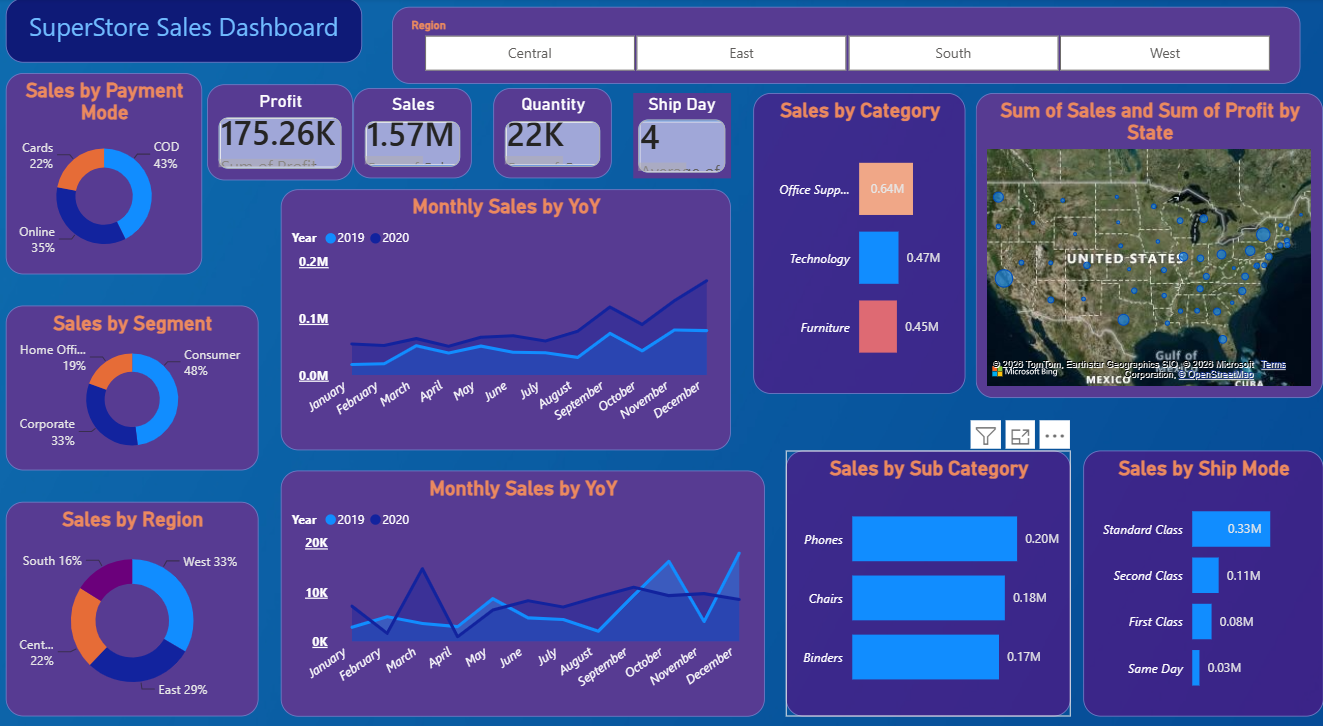

Layout of this report page (visuals, bound fields, positions):
{"tool":"powerbi","page":{"name":"Page 1","canvas":[1280,720],"ordinal":0},"visuals":[{"type":"clusteredBarChart","title":"Sales by Category","fields":{"Category":["SuperStore_Sales_Dataset.Category"],"Y":["Sum(SuperStore_Sales_Dataset.Sales)"]},"box":[729.9,91.7,205.1,290.8],"z":0},{"type":"clusteredBarChart","title":"Sales by Sub Category","fields":{"Category":["SuperStore_Sales_Dataset.Sub-Category"],"Y":["Sum(SuperStore_Sales_Dataset.Sales)"]},"box":[761.3,436.7,275.1,257],"z":1000},{"type":"clusteredBarChart","title":"Sales by Ship Mode","fields":{"Category":["SuperStore_Sales_Dataset.Ship Mode"],"Y":["Sum(SuperStore_Sales_Dataset.Sales)"]},"box":[1048.4,436.7,231.6,257],"z":2000},{"type":"areaChart","title":"Monthly Sales by YoY","fields":{"Category":["SuperStore_Sales_Dataset.Order Date.Variation.Date Hierarchy.Month","SuperStore_Sales_Dataset.Order Date.Variation.Date Hierarchy.Day"],"Y":["Sum(SuperStore_Sales_Dataset.Sales)"],"Series":["SuperStore_Sales_Dataset.Order Date.Variation.Date Hierarchy.Year"]},"box":[273.9,184.6,434.3,252.1],"z":3000},{"type":"areaChart","title":"Monthly Sales by YoY","fields":{"Category":["SuperStore_Sales_Dataset.Order Date.Variation.Date Hierarchy.Month","SuperStore_Sales_Dataset.Order Date.Variation.Date Hierarchy.Day"],"Series":["SuperStore_Sales_Dataset.Order Date.Variation.Date Hierarchy.Year"],"Y":["Sum(SuperStore_Sales_Dataset.Profit)"]},"box":[273.9,456,466.9,237.7],"z":4000},{"type":"map","fields":{"Category":["SuperStore_Sales_Dataset.State"],"Size":["Sum(SuperStore_Sales_Dataset.Sales)"]},"box":[944.6,91.7,335.4,294.4],"z":5000},{"type":"donutChart","title":"Sales by Segment","fields":{"Category":["SuperStore_Sales_Dataset.Segment"],"Y":["Sum(SuperStore_Sales_Dataset.Sales)"]},"box":[8.4,296.8,243.7,159.3],"z":6000},{"type":"donutChart","title":"Sales by Payment Mode","fields":{"Category":["SuperStore_Sales_Dataset.Payment Mode"],"Y":["Sum(SuperStore_Sales_Dataset.Sales)"]},"box":[8.4,72.4,189.4,194.2],"z":7000},{"type":"slicer","fields":{"Values":["SuperStore_Sales_Dataset.Region"]},"box":[381.2,8.4,877.1,74.8],"z":8000},{"type":"textbox","box":[8.4,0,343.8,62.7],"z":9000},{"type":"cardVisual","title":"Sales","fields":{"Data":["Sum(SuperStore_Sales_Dataset.Sales)"]},"box":[343.8,86.9,114.6,86.9],"z":10000},{"type":"cardVisual","title":"Quantity","fields":{"Data":["Sum(SuperStore_Sales_Dataset.Quantity)"]},"box":[479,86.9,114.6,86.9],"z":11000},{"type":"cardVisual","title":"Profit","fields":{"Data":["Sum(SuperStore_Sales_Dataset.Profit)"]},"box":[202.7,83.2,141.2,92.9],"z":12000},{"type":"cardVisual","title":"Ship Day","fields":{"Data":["Avg(SuperStore_Sales_Dataset.AvgDelivery)"]},"box":[614.1,91.7,94.1,82],"z":13000},{"type":"donutChart","title":"Sales by Region","fields":{"Y":["Sum(SuperStore_Sales_Dataset.Sales)"],"Category":["SuperStore_Sales_Dataset.Region"]},"box":[8.4,486.2,243.7,207.5],"z":13001}]}

Visuals, with their boxes in screenshot pixels (x1, y1, x2, y2), scaled from the page's 1280x720 canvas onto the 1323x726 screenshot:
"Sales by Category" clusteredBarChart: Rect(754, 92, 966, 386)
"Sales by Sub Category" clusteredBarChart: Rect(787, 440, 1071, 699)
"Sales by Ship Mode" clusteredBarChart: Rect(1084, 440, 1322, 699)
"Monthly Sales by YoY" areaChart: Rect(283, 186, 732, 440)
"Monthly Sales by YoY" areaChart: Rect(283, 460, 766, 699)
map - SuperStore_Sales_Dataset.State x Sum(SuperStore_Sales_Dataset.Sales): Rect(976, 92, 1322, 389)
"Sales by Segment" donutChart: Rect(9, 299, 261, 460)
"Sales by Payment Mode" donutChart: Rect(9, 73, 204, 269)
slicer - SuperStore_Sales_Dataset.Region: Rect(394, 8, 1301, 84)
textbox: Rect(9, 0, 364, 63)
"Sales" cardVisual: Rect(355, 88, 474, 175)
"Quantity" cardVisual: Rect(495, 88, 614, 175)
"Profit" cardVisual: Rect(210, 84, 355, 178)
"Ship Day" cardVisual: Rect(635, 92, 732, 175)
"Sales by Region" donutChart: Rect(9, 490, 261, 699)
